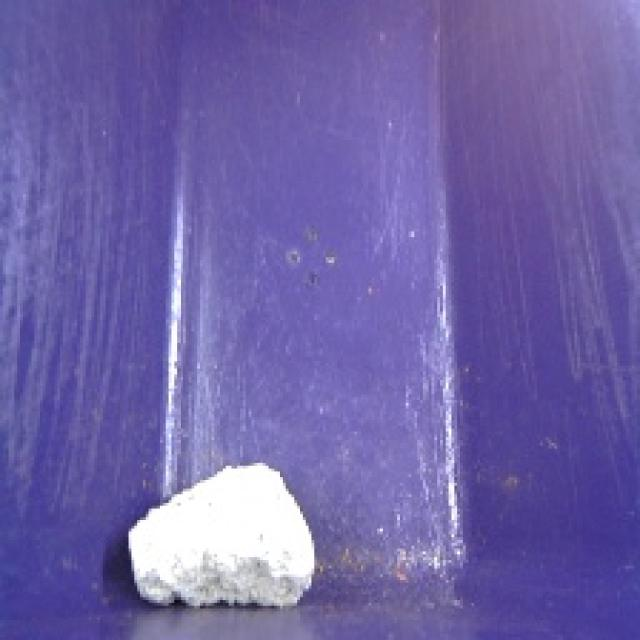brick: (104, 442, 334, 618)
